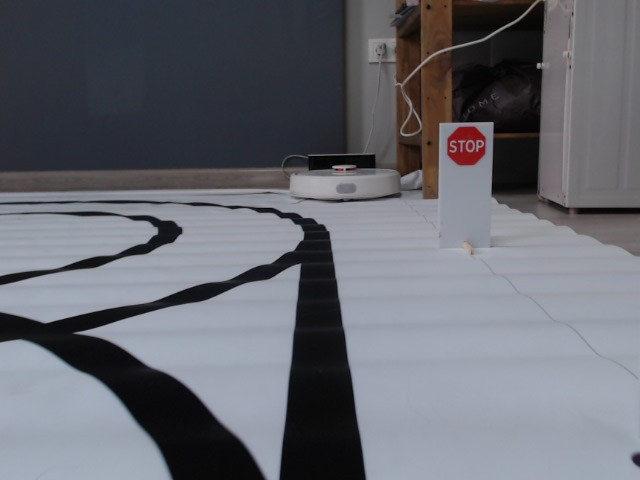Stop: (447, 125, 486, 166)
